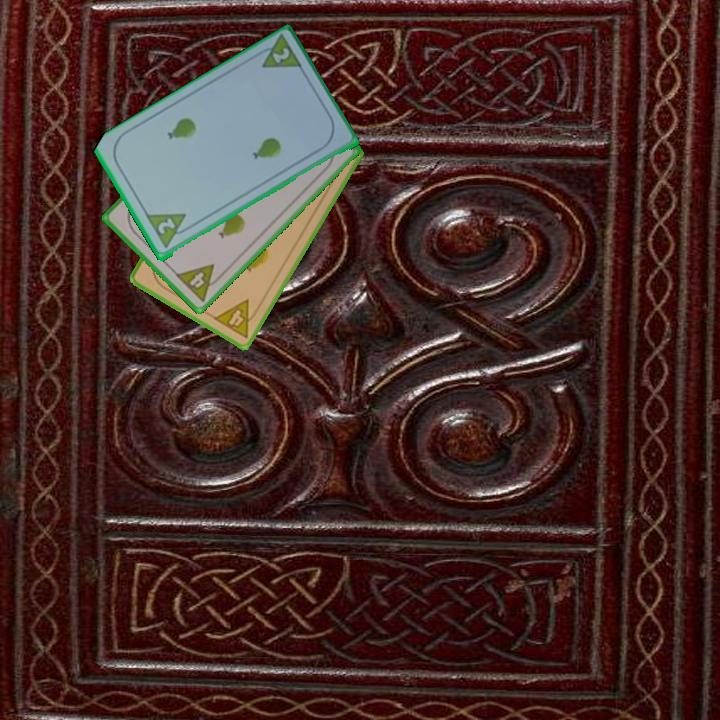2p: (268, 44, 293, 67), (154, 215, 178, 238)
4p: (172, 260, 227, 305), (210, 296, 263, 341)
